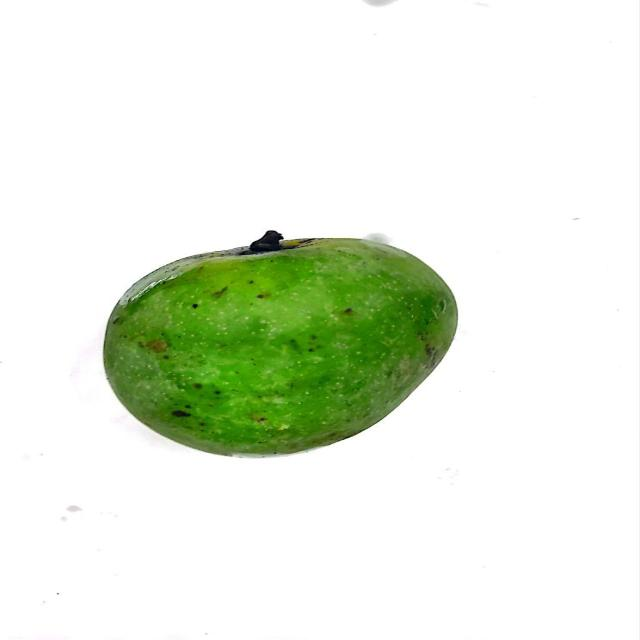fresh_mango: (95, 232, 455, 453)
